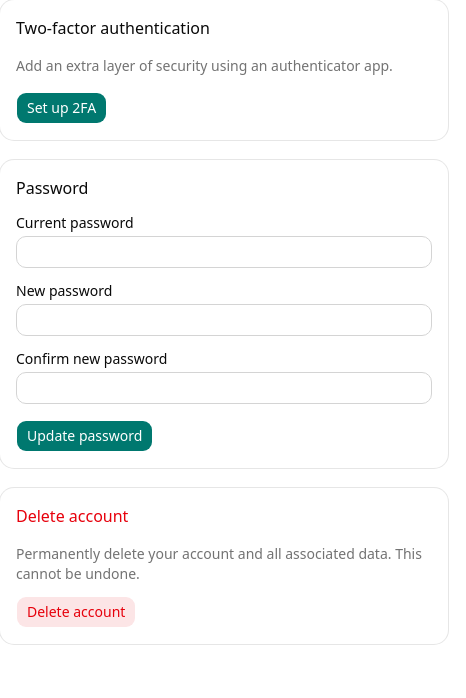
it: SecurityTab — change password › shows a local error and does not submit when passwords don't match
This screenshot has width=466, height=698.
Step 1. Type "current123" into the password field labelled "Current password" → (224, 252), box [16, 236, 432, 268]
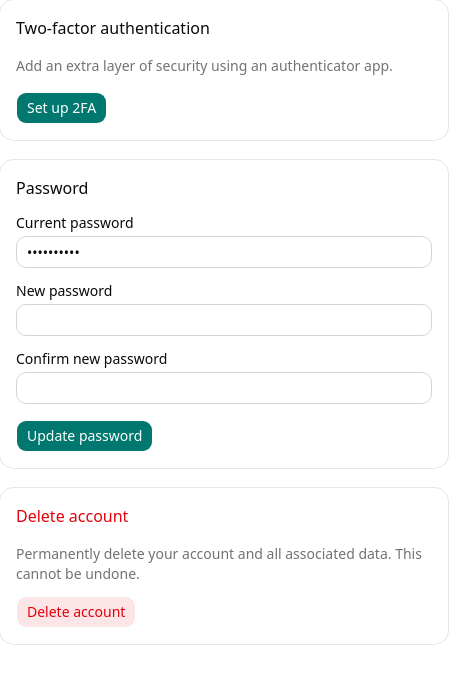
Step 2. Type "newpassword1" into the password field labelled "New password" → (224, 320), box [16, 304, 432, 336]
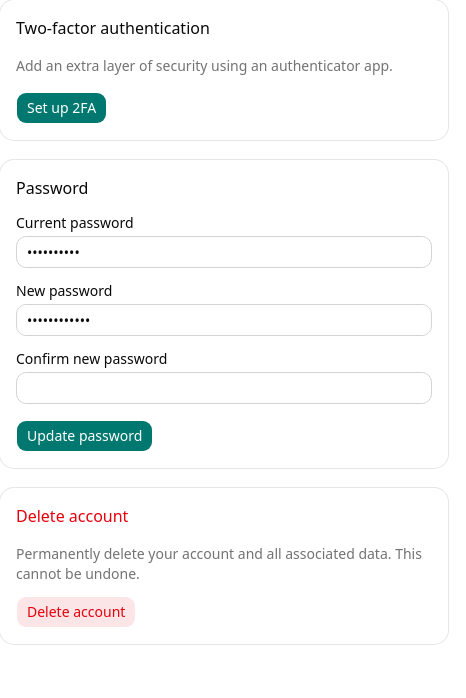
Step 3. Type "different1" into the password field labelled "Confirm new password" → (224, 388), box [16, 372, 432, 404]
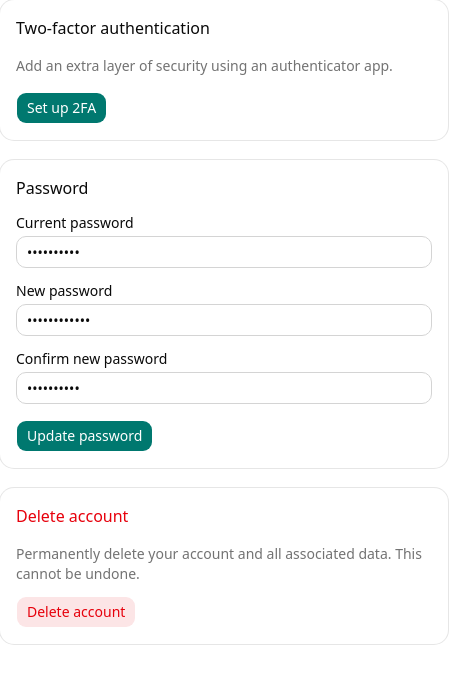
Step 4. Click the button "Update password" → (85, 436), box [16, 420, 153, 452]
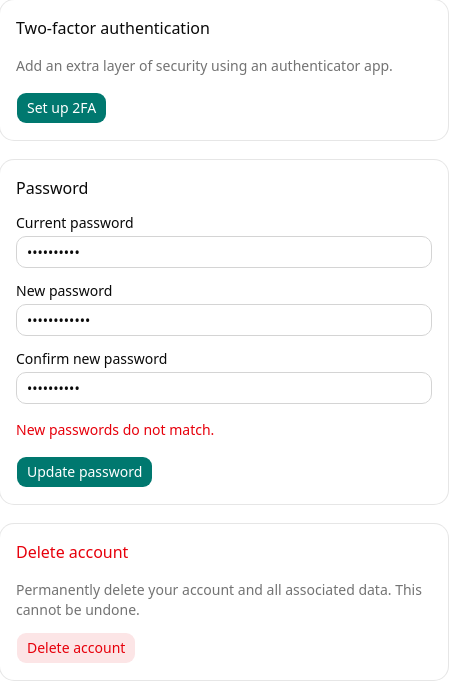
Expected: the text "New passwords do not match." is shown, [16, 420, 214, 439]
